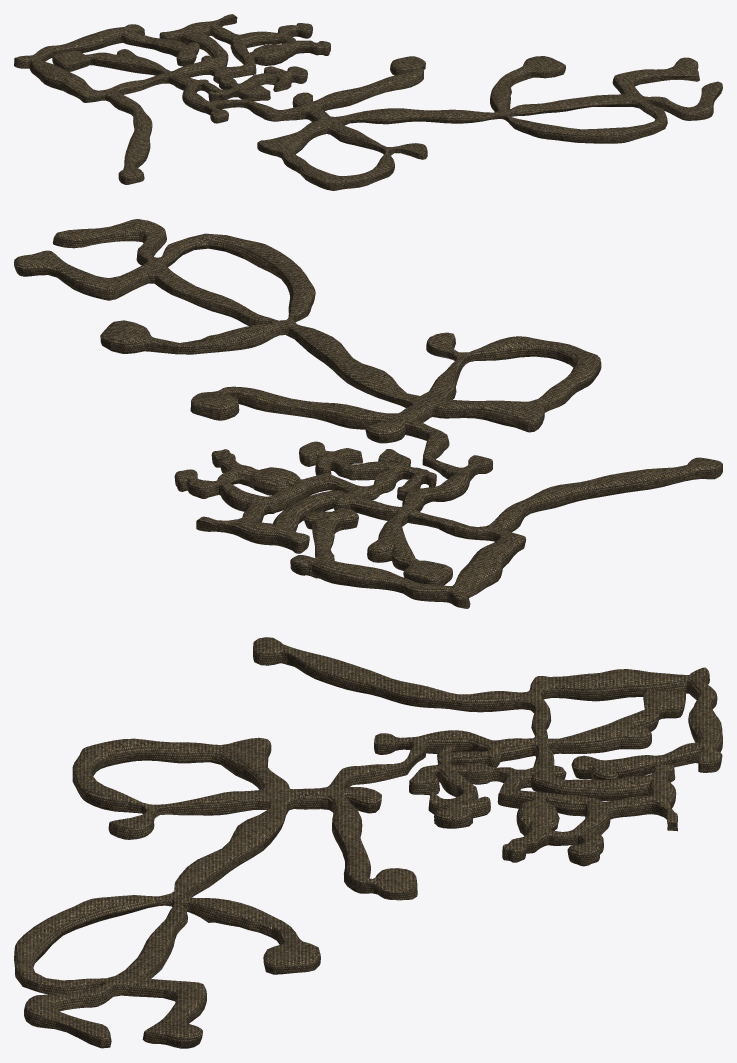
File: caverna_Araujo 2.fbx
3 renders of one model, top to bottom at view 1: azimuth 30°, elevation 25°; view 2: azimuth 150°, elevation 25°; view 3: azimuth 270°, elevation 25°, orthographic. The views are drawn at different scales.
Parts seen in each view (by area): view 1: Cube; view 2: Cube; view 3: Cube.
Part boxes in pixels (x1,y1,x2,y2): Cube: [14, 14, 722, 190]; Cube: [14, 219, 722, 608]; Cube: [14, 637, 722, 1048].
Size of the model in its own units: 45649 by 1249 by 34101.
